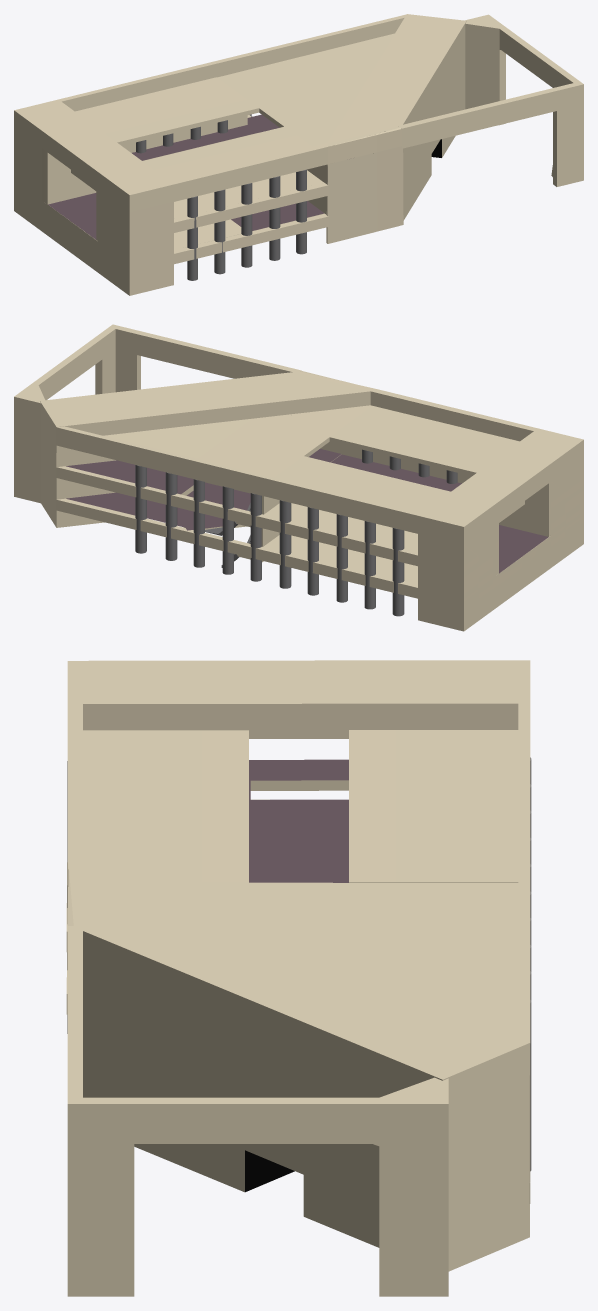
3 views of the same model, one above another, from view 1: azimuth 30°, elevation 25°; view 2: azimuth 150°, elevation 25°; view 3: azimuth 270°, elevation 25° (orthographic). The views are drawn at different scales.
Visible parts, largest first — view 1: Cube, Cube.019, Pilar 4, Pilar 3, Pilar 2, Pilar 5, Pilar 1; view 2: Cube, Cube.019, Pilar 14, Pilar 10, Pilar 6, Pilar 9, Pilar 7, Pilar 13, Pilar 15, Pilar 11, Pilar 12, Pilar 8; view 3: Cube, Cube.019.
Boxes of the visible parts, <box> form: Cube: <box>14,14,466,295</box>; Cube.019: <box>398,14,583,186</box>; Pilar 4: <box>214,189,225,274</box>; Pilar 3: <box>241,183,252,267</box>; Pilar 2: <box>269,176,280,260</box>; Pilar 5: <box>187,196,197,280</box>; Pilar 1: <box>296,169,306,254</box>; Cube: <box>40,371,583,631</box>; Cube.019: <box>14,324,301,503</box>; Pilar 14: <box>165,472,177,560</box>; Pilar 10: <box>279,500,291,588</box>; Pilar 6: <box>392,528,404,616</box>; Pilar 9: <box>307,507,318,595</box>; Pilar 7: <box>364,521,375,609</box>; Pilar 13: <box>193,479,204,567</box>; Pilar 15: <box>135,465,146,553</box>; Pilar 11: <box>250,493,261,581</box>; Pilar 12: <box>222,486,233,574</box>; Pilar 8: <box>336,514,347,602</box>; Cube: <box>66,660,530,1271</box>; Cube.019: <box>67,926,448,1296</box>.
Bounding box in the file's own units: 59362 × 12786 × 26300.
